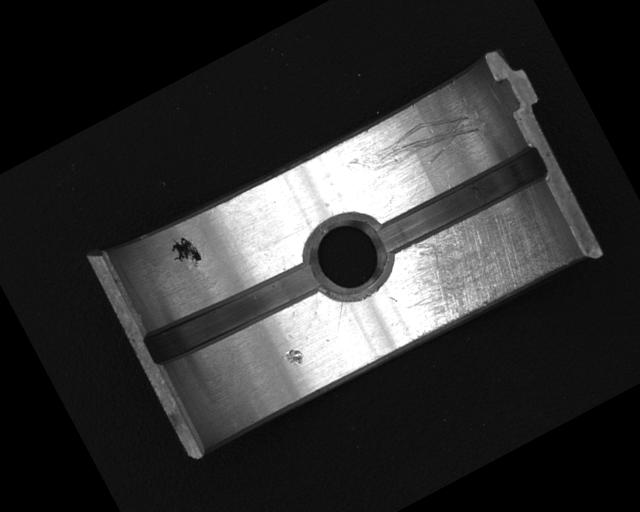blot: (164, 230, 205, 275)
bruise: (281, 344, 308, 371)
gap: (140, 251, 328, 376), (369, 140, 553, 263)
hole: (291, 198, 405, 312)
nick: (343, 97, 484, 199), (319, 300, 358, 342)
scratch: (369, 178, 578, 347)
